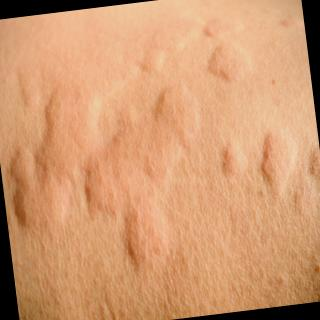urticaria: (146, 75, 210, 144), (84, 151, 138, 213), (5, 144, 47, 221), (46, 88, 108, 138), (263, 123, 294, 186), (213, 36, 255, 80), (218, 137, 255, 180)
